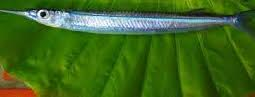sayori: (0, 3, 250, 42)
